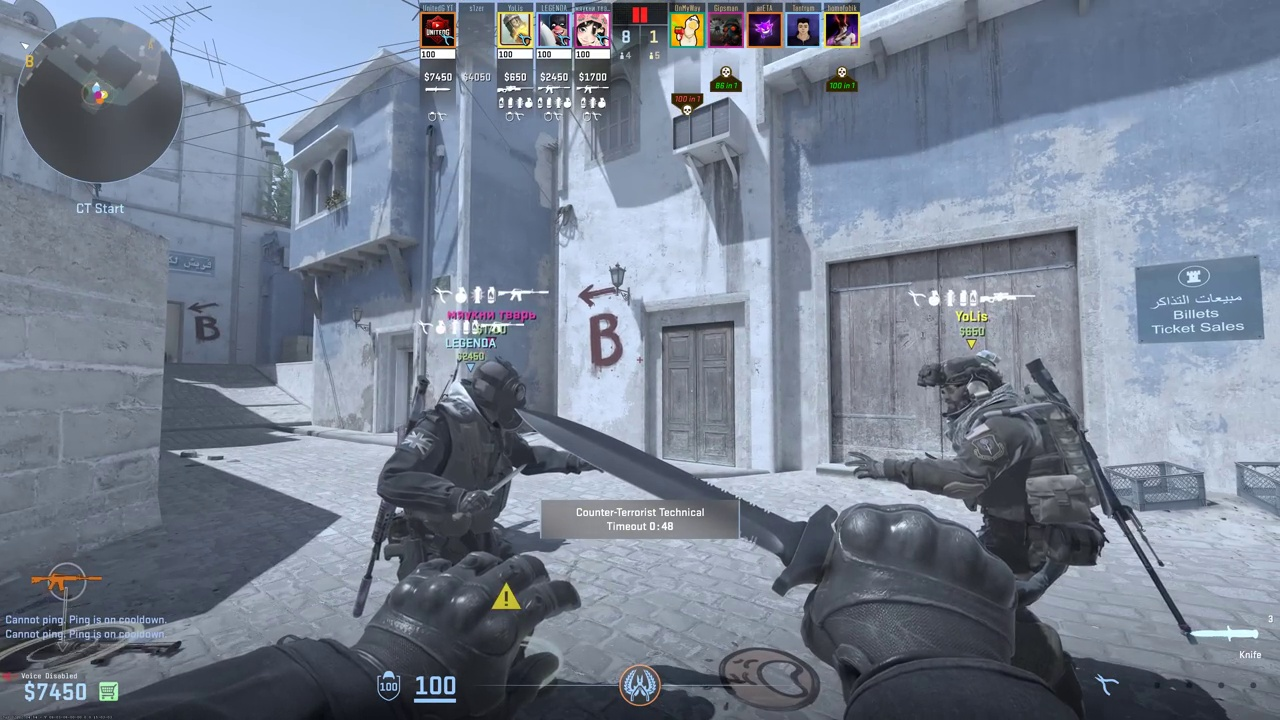CT: (937, 358, 1084, 604), (383, 358, 528, 598)
